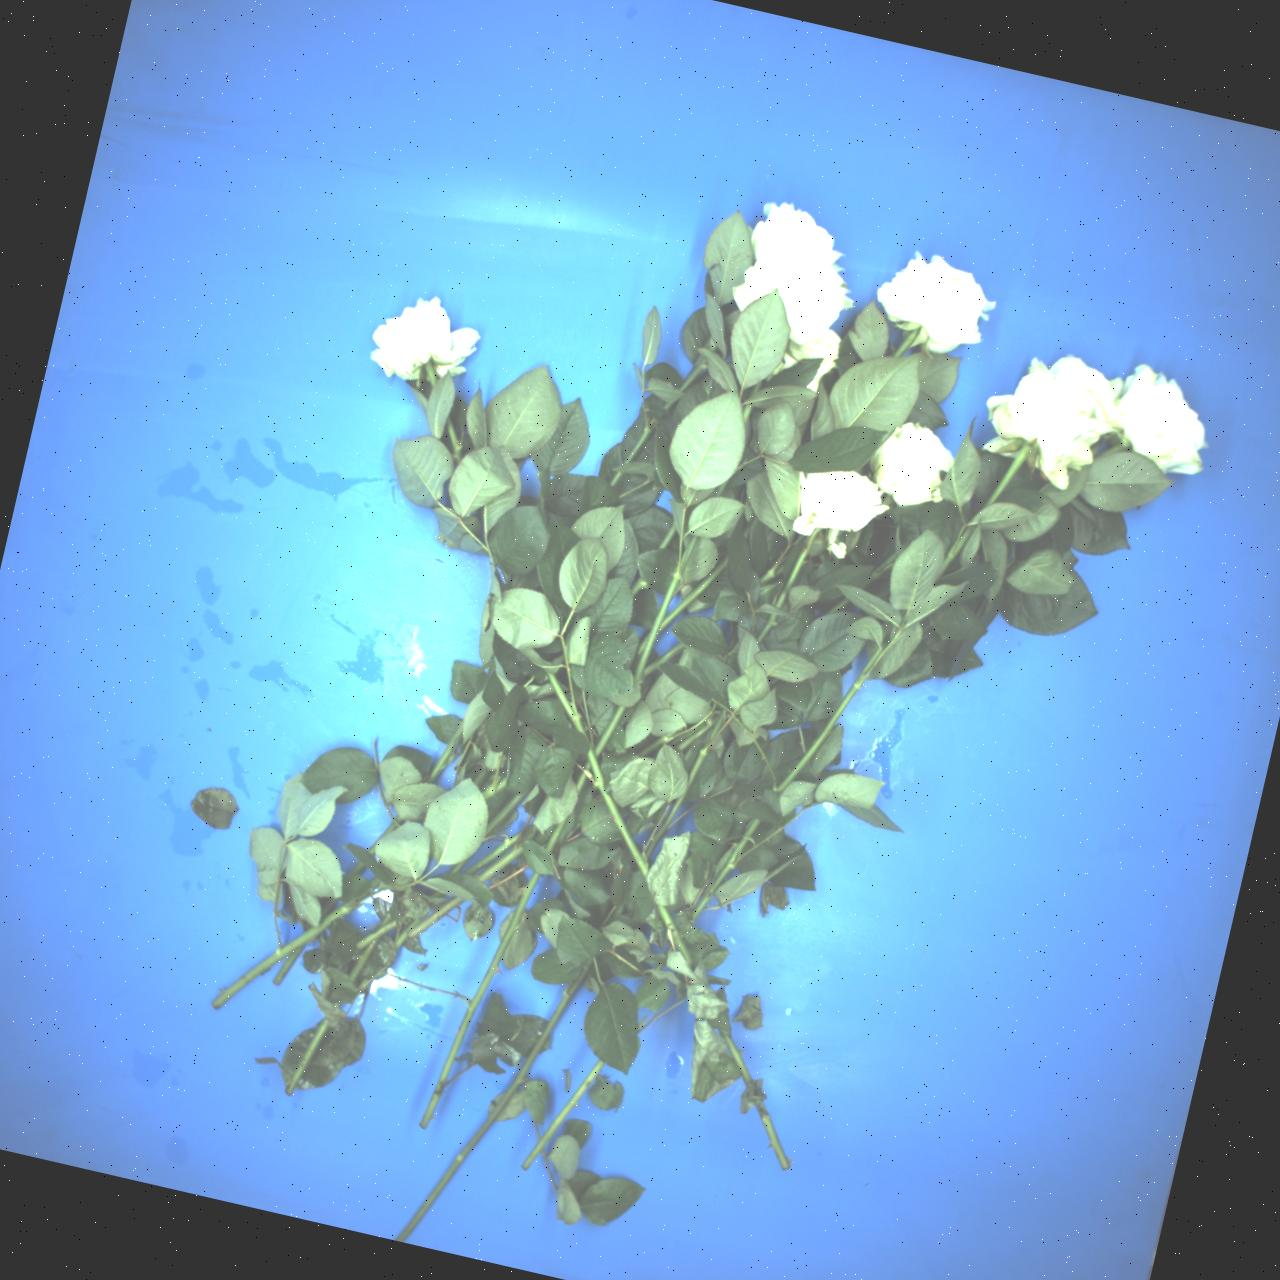Stem: (387, 956, 607, 1245), (415, 869, 542, 1130), (771, 648, 887, 795), (207, 899, 353, 1010), (631, 533, 697, 681), (519, 1057, 605, 1172), (581, 748, 652, 879), (689, 816, 760, 922), (654, 556, 731, 634), (284, 1016, 329, 1096), (982, 444, 1030, 512), (775, 533, 815, 608), (544, 668, 587, 736), (424, 717, 465, 787), (462, 831, 522, 878), (644, 791, 685, 859), (406, 892, 464, 939), (654, 901, 695, 968), (755, 1101, 790, 1171), (478, 788, 525, 837), (476, 843, 525, 884), (720, 1029, 755, 1085), (591, 703, 626, 758), (935, 526, 971, 578), (640, 640, 686, 678), (272, 940, 305, 986), (858, 553, 899, 590), (347, 937, 376, 982), (356, 919, 397, 949), (622, 427, 653, 467), (442, 416, 464, 463), (678, 360, 708, 394), (681, 748, 707, 788), (750, 611, 779, 644), (674, 724, 709, 751), (892, 326, 919, 360), (636, 734, 670, 760), (544, 815, 566, 852), (393, 917, 418, 948), (824, 595, 852, 624), (481, 777, 510, 799), (573, 760, 592, 794), (707, 709, 726, 743), (757, 564, 785, 585), (658, 523, 678, 551), (381, 815, 403, 839), (316, 894, 336, 919), (449, 853, 468, 876), (424, 362, 440, 388), (712, 476, 728, 499), (471, 765, 489, 787), (745, 380, 765, 396), (628, 578, 645, 597), (608, 469, 624, 489), (349, 860, 365, 877), (740, 404, 751, 424), (662, 395, 676, 411), (379, 913, 392, 931), (367, 876, 381, 890), (614, 903, 624, 917), (367, 844, 377, 856)
flower: (965, 355, 1115, 506), (727, 218, 870, 356), (867, 234, 1008, 374), (1094, 353, 1223, 496), (359, 281, 489, 410), (858, 413, 968, 523), (1044, 343, 1133, 441), (788, 467, 887, 536), (751, 203, 836, 259), (779, 321, 842, 387)
